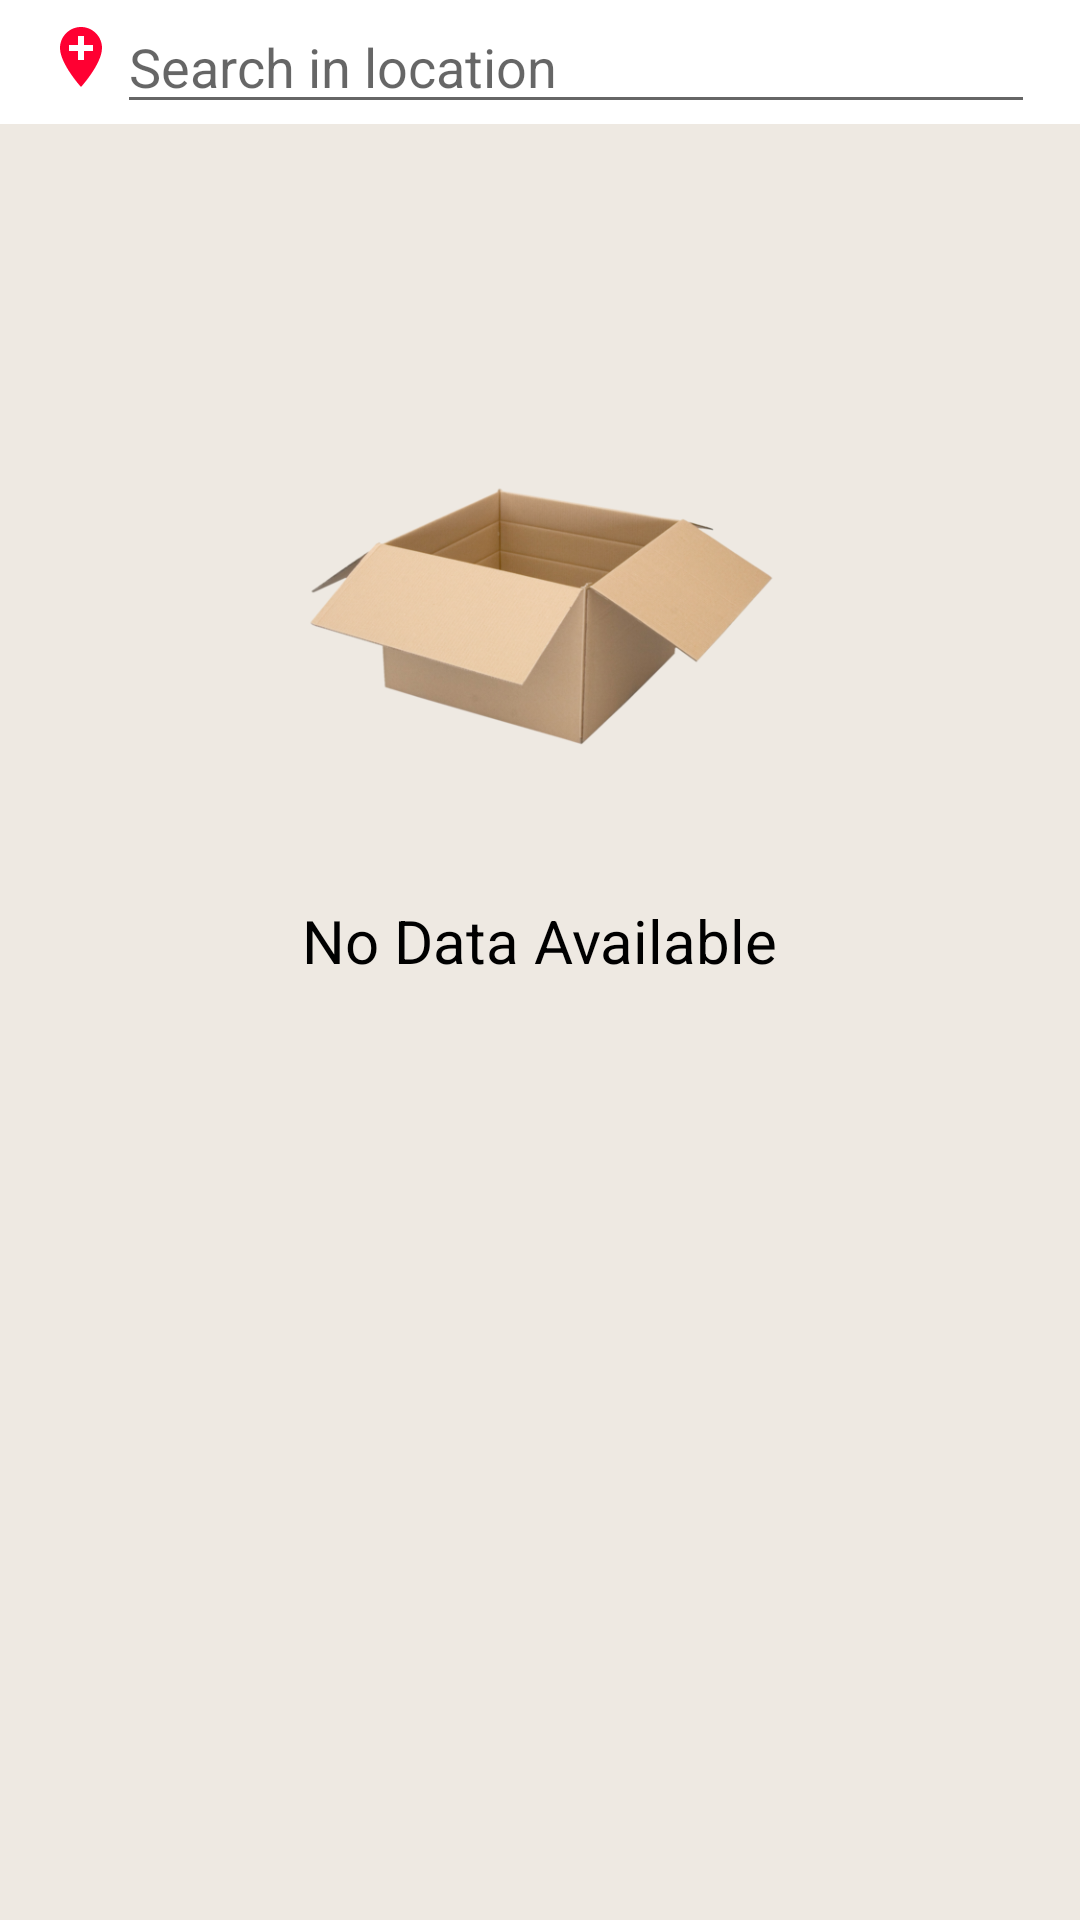

Screen size 1080*1920. Icon name, then its center in pixels as (x,y):
add location: (81,57)
